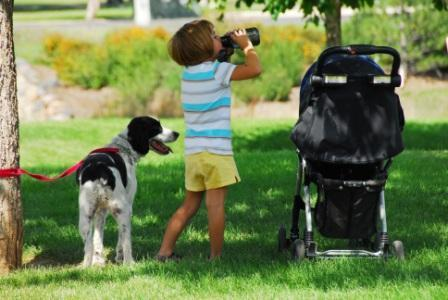person: (153, 19, 266, 262)
